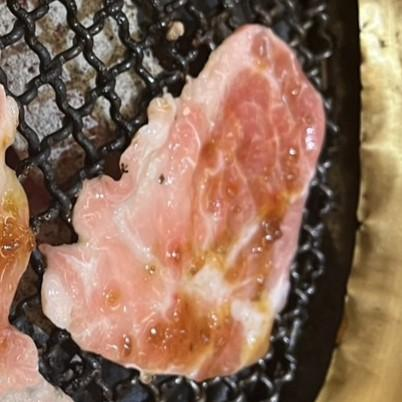Undercooked: (40, 25, 323, 381)
